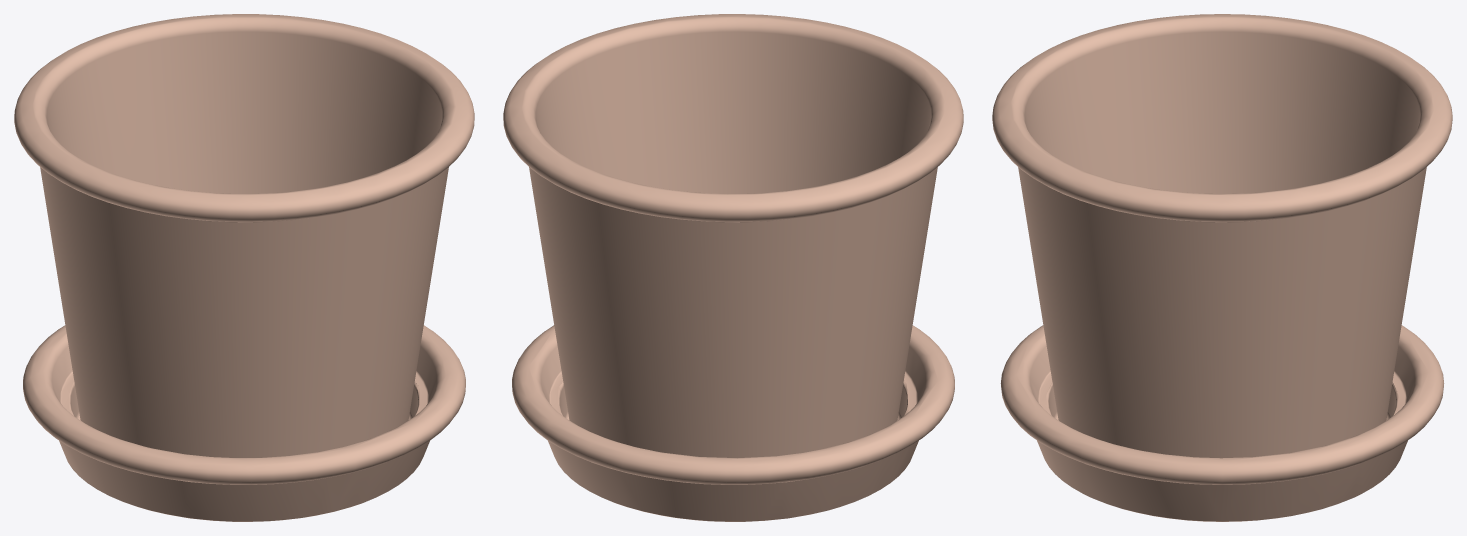
Rendered from 21 - MUSKOTBLOMMA Plant pot with saucer - inoutdoor terracotta 12 cm.glb.
3 views of the same model, side by side, from view 1: azimuth 30°, elevation 25°; view 2: azimuth 150°, elevation 25°; view 3: azimuth 270°, elevation 25° (orthographic).
Visible parts, largest first — view 1: model; view 2: model; view 3: model.
Boxes of the visible parts, x1=… form: model: x1=14, y1=14, x2=474, y2=521; model: x1=503, y1=14, x2=963, y2=521; model: x1=992, y1=14, x2=1452, y2=521.
Bounding box in the file's own units: 0.16 × 0.133 × 0.16.
